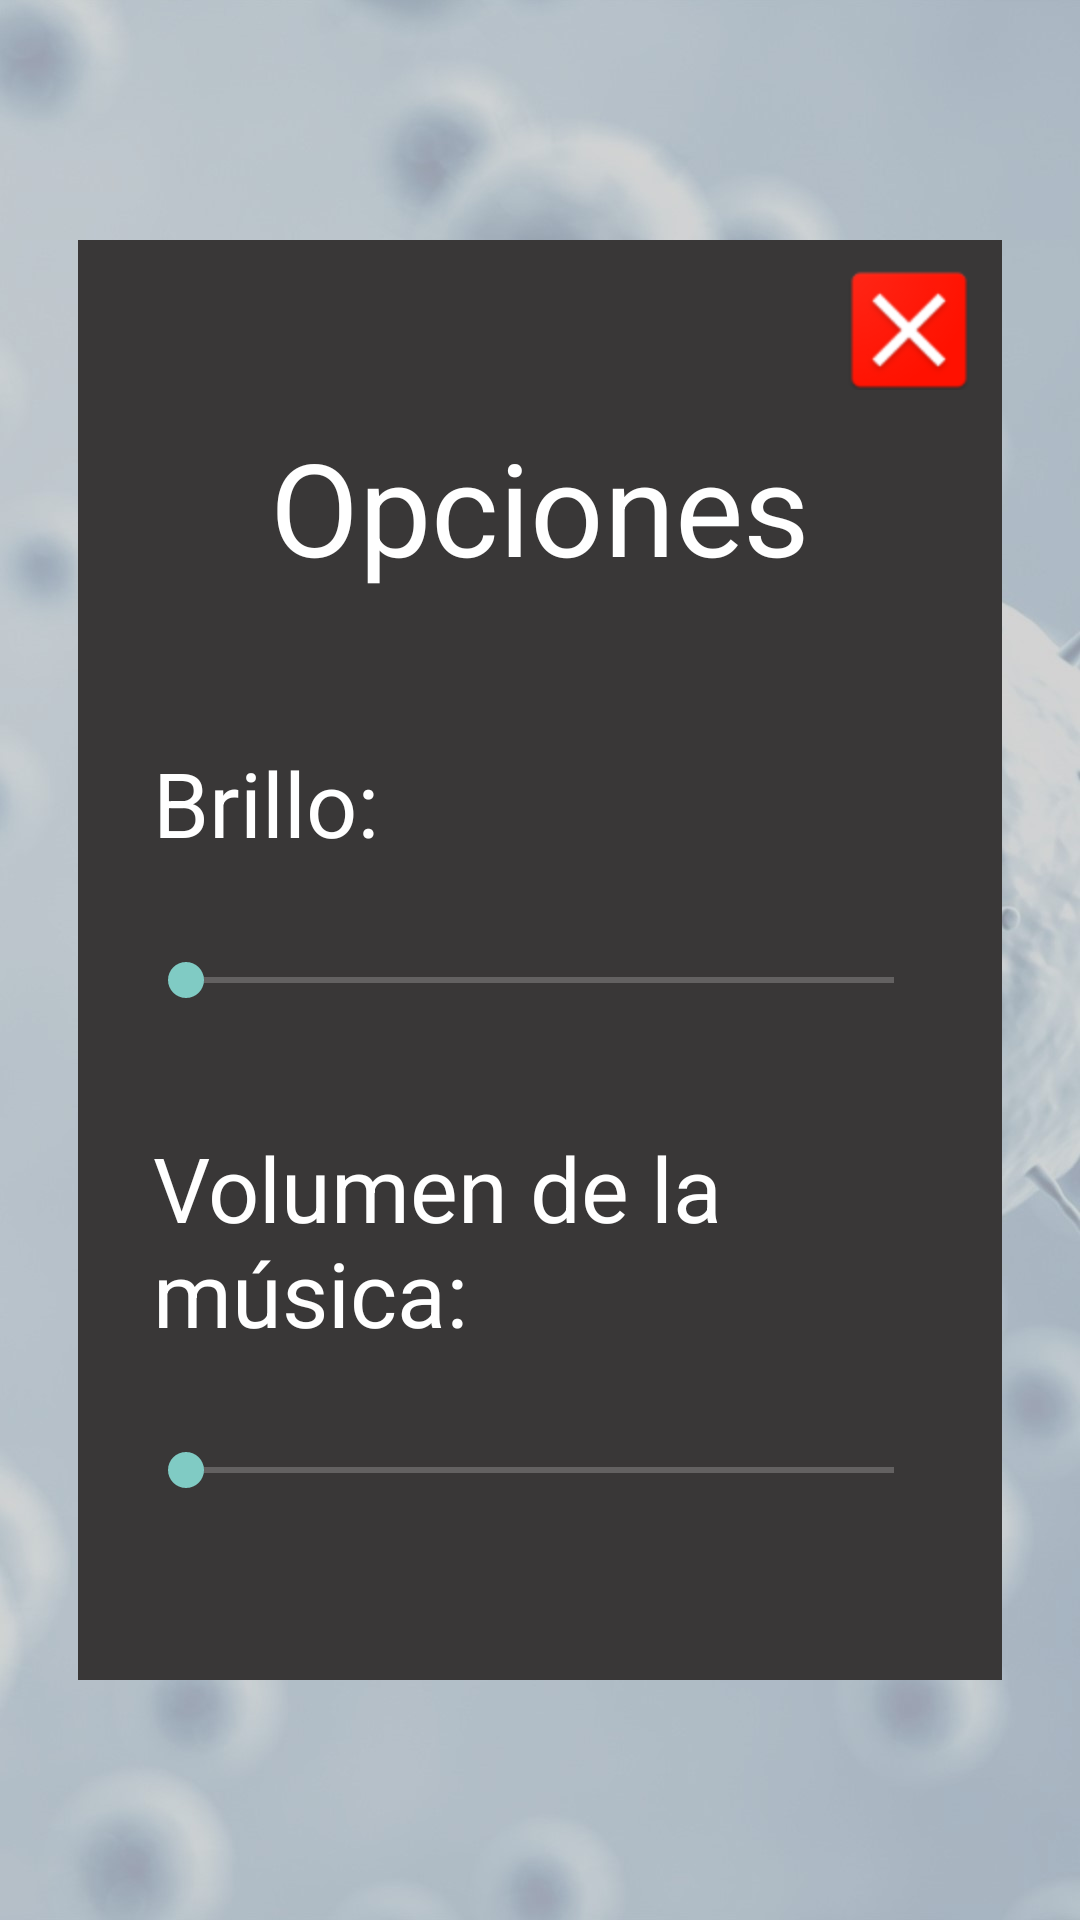

Icons on this 1080px×1920px Android screen, each with the point to tap as (x=x, y=y):
close: (x=909, y=329)
